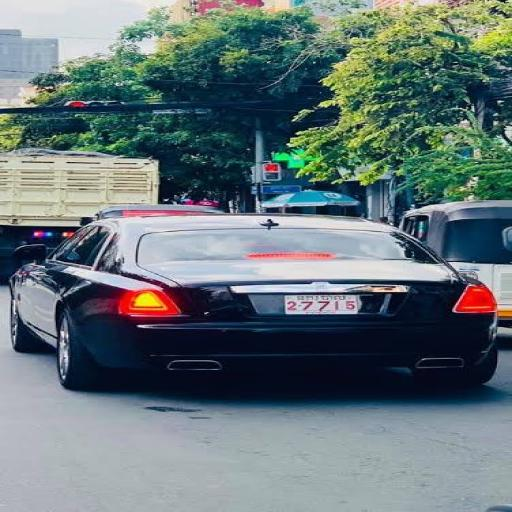Plate Number: (284, 292, 363, 316)
